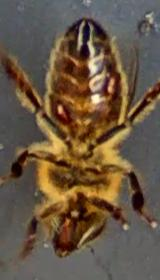varroa_mite: (94, 63, 126, 101), (42, 100, 82, 129)
